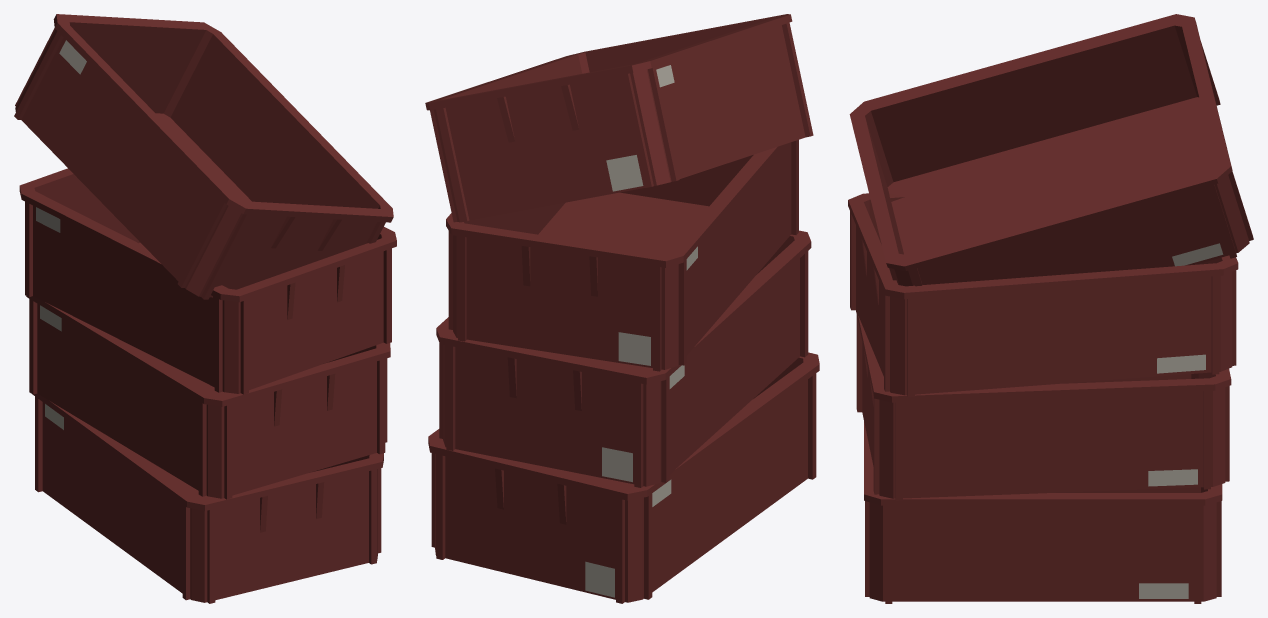
The model's file is SM_crate_3_set.gltf.
The picture shows the model from 3 angles, left to right: view 1: azimuth 30°, elevation 25°; view 2: azimuth 150°, elevation 25°; view 3: azimuth 270°, elevation 25°; orthographic projection. The views are drawn at different scales.
Parts seen in each view (by area): view 1: SM_crate_3_set; view 2: SM_crate_3_set; view 3: SM_crate_3_set.
Boxes of the visible parts, x1=… form: SM_crate_3_set: x1=14, y1=14, x2=396, y2=603; SM_crate_3_set: x1=425, y1=14, x2=819, y2=603; SM_crate_3_set: x1=848, y1=14, x2=1253, y2=603.
Bounding box in the file's own units: 0.8202 × 1.54 × 1.14.
1 material, 1 textured.
